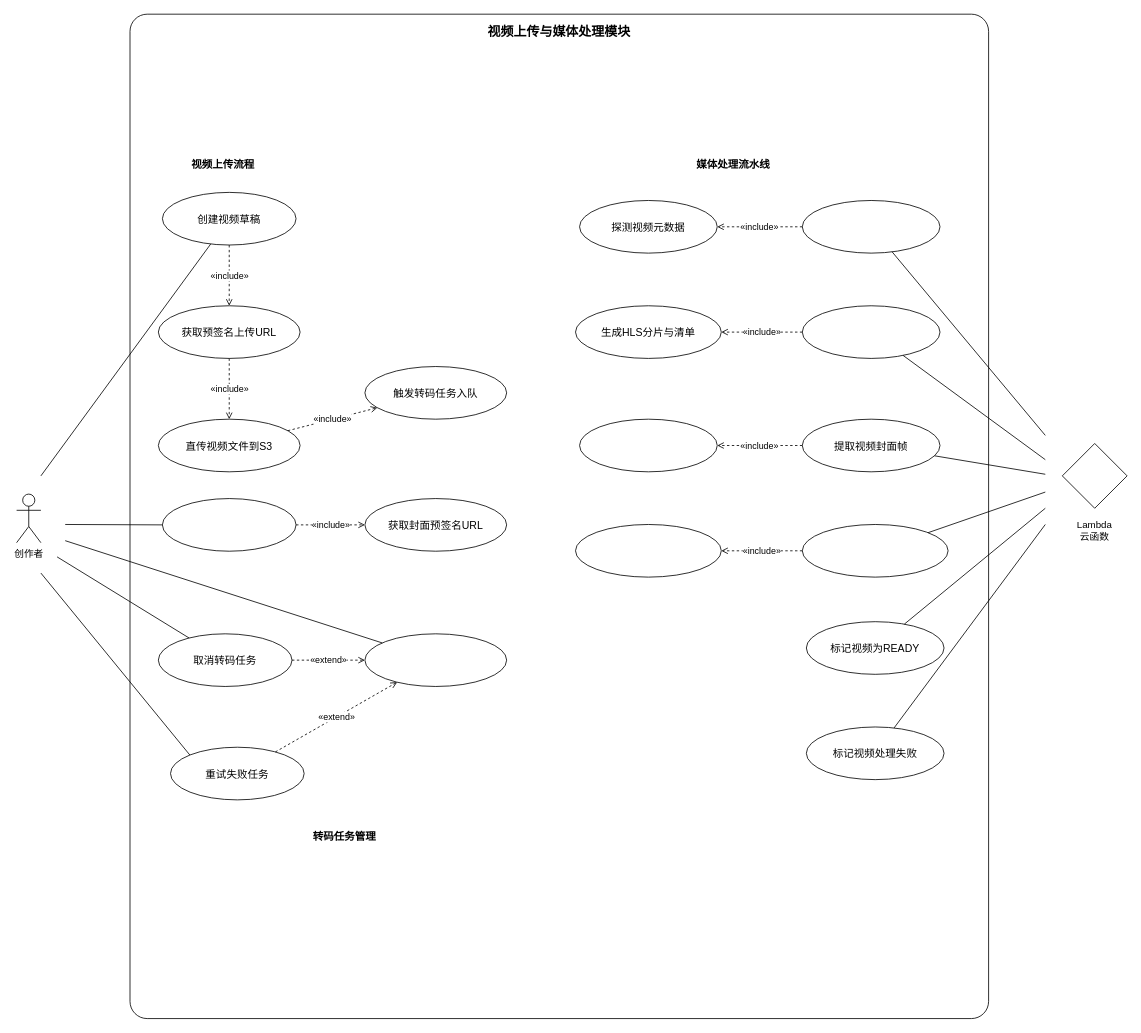
This 1141x1033 diagram has some shape labels left out. Here are the shapes that lost their labels. From the top down, the centre of each, then its label:
At [870,226]: "从S3下载源视频".
At [870,331]: "多码率视频转码".
At [648,445]: "上传HLS产物到S3".
At [229,524]: "上传自定义封面".
At [648,550]: "写入VideoAsset记录".
At [874,550]: "回写流水线阶段状态".
At [435,659]: "实时查看转码状态".
